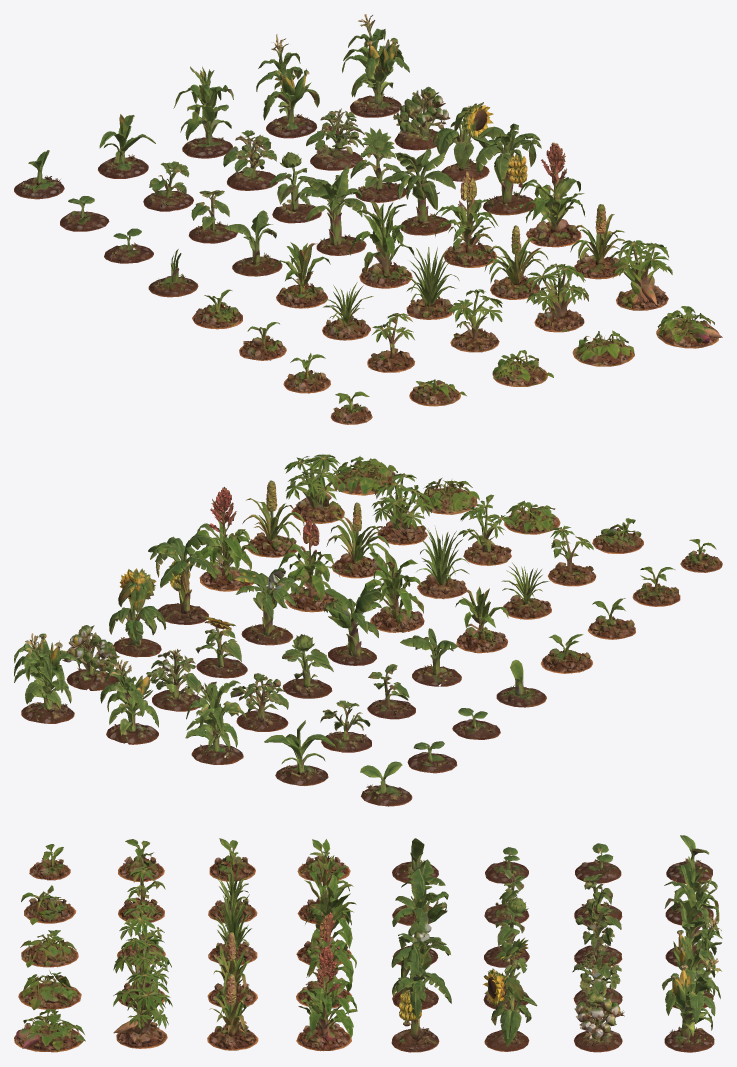
3 views of the same model, one above another, from view 1: azimuth 30°, elevation 25°; view 2: azimuth 150°, elevation 25°; view 3: azimuth 270°, elevation 25° (orthographic). The views are drawn at different scales.
Visible parts, largest first — view 1: platano_05_maduro, sorgo_05_maduro, maiz_05_maduro, platano_04_desarrollo, maiz_04_desarrollo, sorgo_04_desarrollo, sorgo_03_adulto, yuca_05_maduro, yuca_04_desarrollo, platano_03_adulto, maiz_03_adulto, girasol_05_maduro (+28 smaller); view 2: maiz_05_maduro, sorgo_05_maduro, platano_05_maduro, maiz_03_adulto, girasol_05_maduro, maiz_04_desarrollo, sorgo_03_adulto, yuca_05_maduro, yuca_04_desarrollo, platano_04_desarrollo, sorgo_04_desarrollo, platano_03_adulto (+28 smaller); view 3: sorgo_05_maduro, maiz_05_maduro, platano_05_maduro, yuca_05_maduro, girasol_05_maduro, algodon_05_maduro, batata_05_maduro, mijo_05_maduro, maiz_03_adulto, sorgo_03_adulto, yuca_04_desarrollo, platano_04_desarrollo (+28 smaller).
Part boxes in pixels (box(x1,y1,x2,y2)): platano_05_maduro: box(475, 123, 541, 215); sorgo_05_maduro: box(518, 142, 585, 247); maiz_05_maduro: box(342, 14, 409, 117); platano_04_desarrollo: box(381, 148, 455, 235); maiz_04_desarrollo: box(256, 34, 319, 138); sorgo_04_desarrollo: box(434, 171, 498, 267); sorgo_03_adulto: box(350, 200, 414, 288); yuca_05_maduro: box(610, 240, 672, 310); yuca_04_desarrollo: box(524, 263, 588, 332); platano_03_adulto: box(295, 166, 366, 255); maiz_03_adulto: box(173, 66, 233, 158); girasol_05_maduro: box(433, 102, 493, 181); maiz_05_maduro: box(14, 633, 79, 723); sorgo_05_maduro: box(190, 487, 259, 591); platano_05_maduro: box(148, 534, 217, 624); maiz_03_adulto: box(185, 680, 246, 764); girasol_05_maduro: box(109, 568, 166, 657); maiz_04_desarrollo: box(100, 659, 158, 744); sorgo_03_adulto: box(360, 548, 424, 632); yuca_05_maduro: box(284, 454, 345, 523); yuca_04_desarrollo: box(371, 473, 433, 545); platano_04_desarrollo: box(234, 567, 299, 645); sorgo_04_desarrollo: box(278, 519, 339, 612); platano_03_adulto: box(324, 588, 381, 665); sorgo_05_maduro: box(296, 945, 357, 1051); maiz_05_maduro: box(662, 955, 721, 1052); platano_05_maduro: box(391, 944, 451, 1052); yuca_05_maduro: box(113, 971, 172, 1048); girasol_05_maduro: box(483, 968, 537, 1051); algodon_05_maduro: box(574, 990, 624, 1052); batata_05_maduro: box(14, 1008, 85, 1052); mijo_05_maduro: box(207, 973, 258, 1050); maiz_03_adulto: box(664, 876, 722, 966); sorgo_03_adulto: box(296, 874, 356, 964); yuca_04_desarrollo: box(113, 937, 171, 1007); platano_04_desarrollo: box(391, 911, 450, 1009).
Size of the model in its own units: 8.61 by 1.98 by 13.19.
2 materials, 2 textured.
